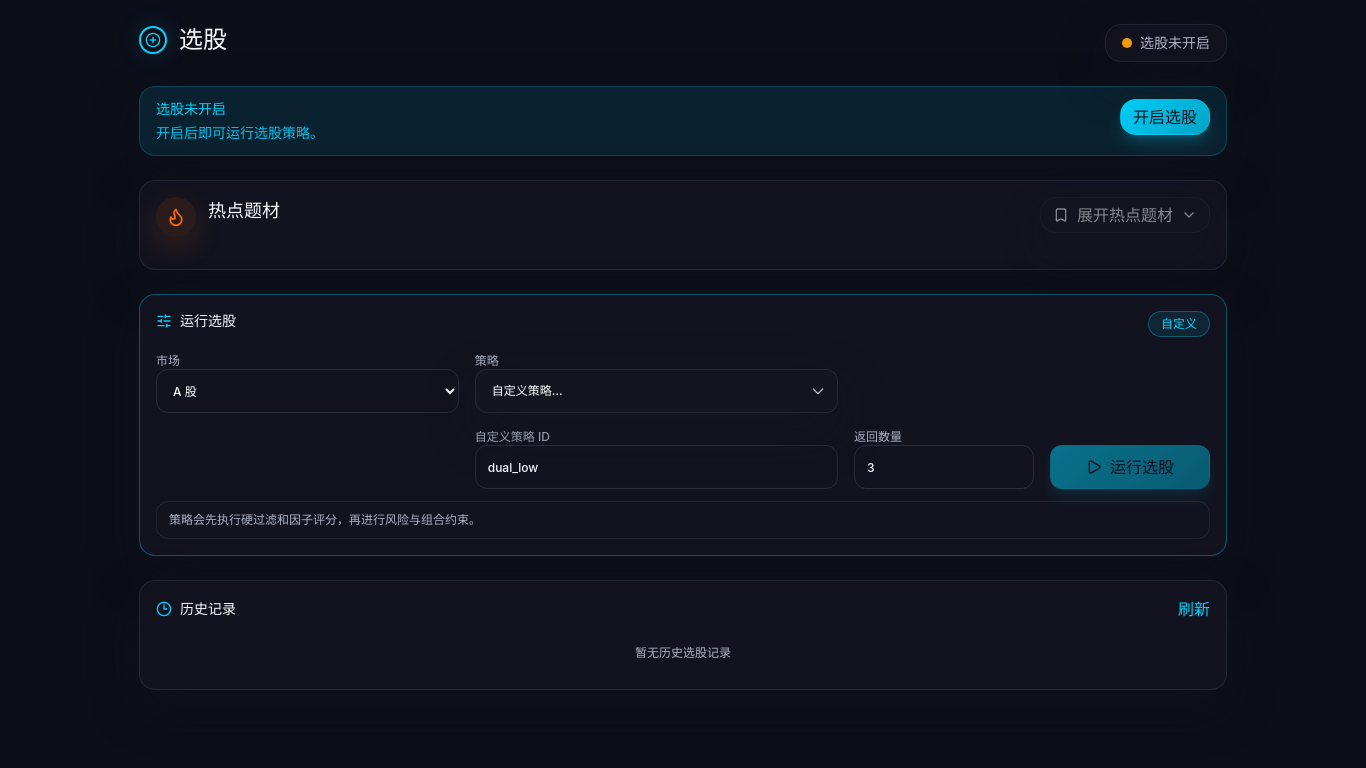
StockScreeningPage › keeps status unknown when enabling fails and configuration cannot be re-read
Click the button "开启选股".
click(1165, 117)  # box 1120,99 -> 1210,135
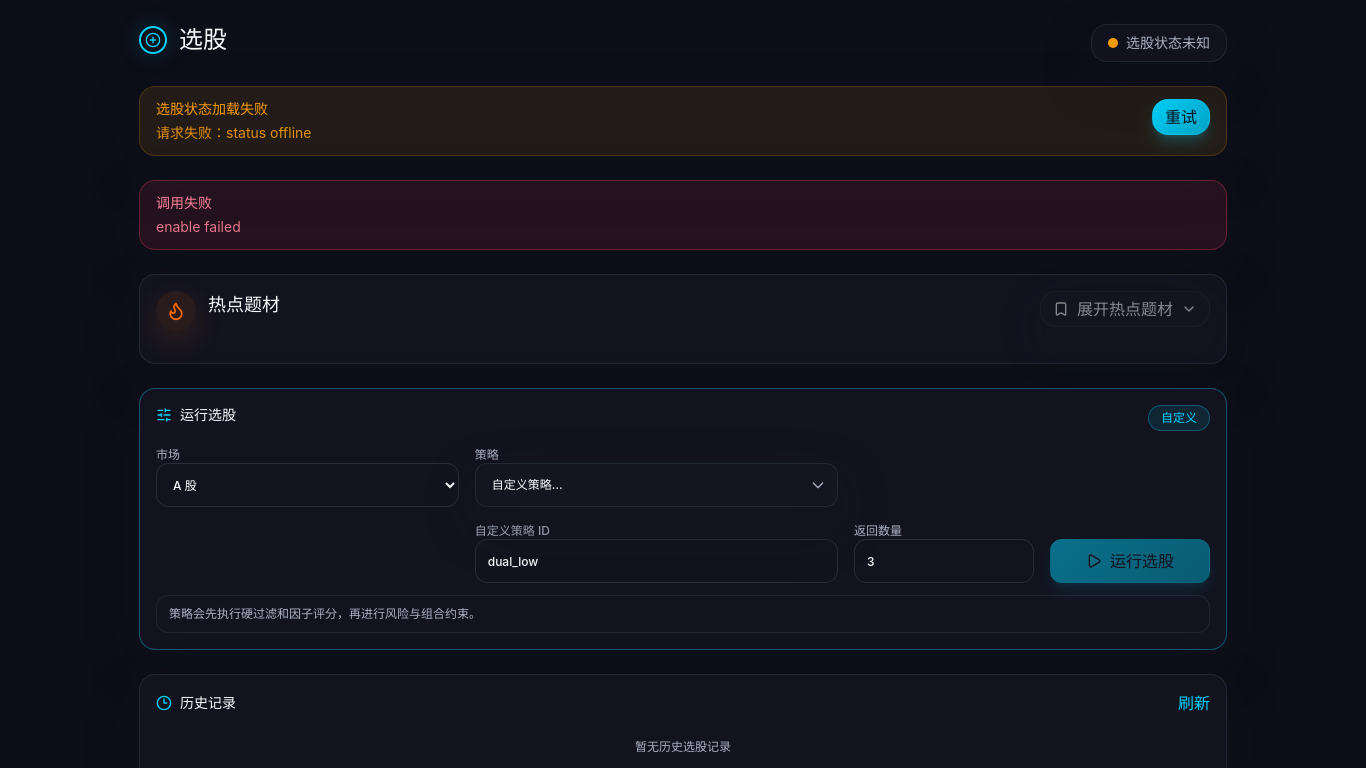
expect the text "选股状态加载失败" is shown: met, box 156,100 -> 268,117
expect the button "开启选股" is gone: met
expect the text "选股未开启" is gone: met
